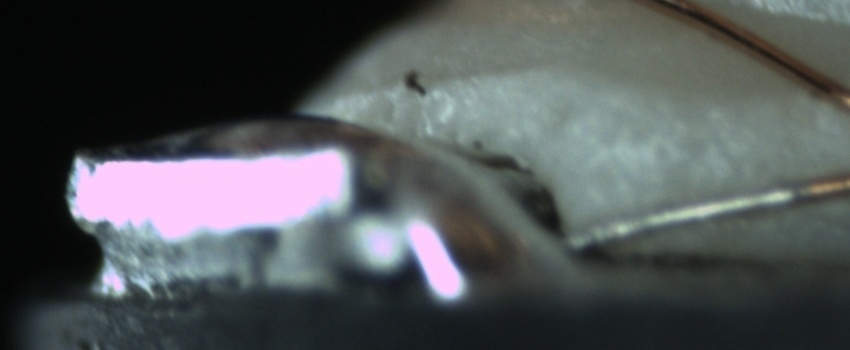TS: (564, 174, 821, 248)
